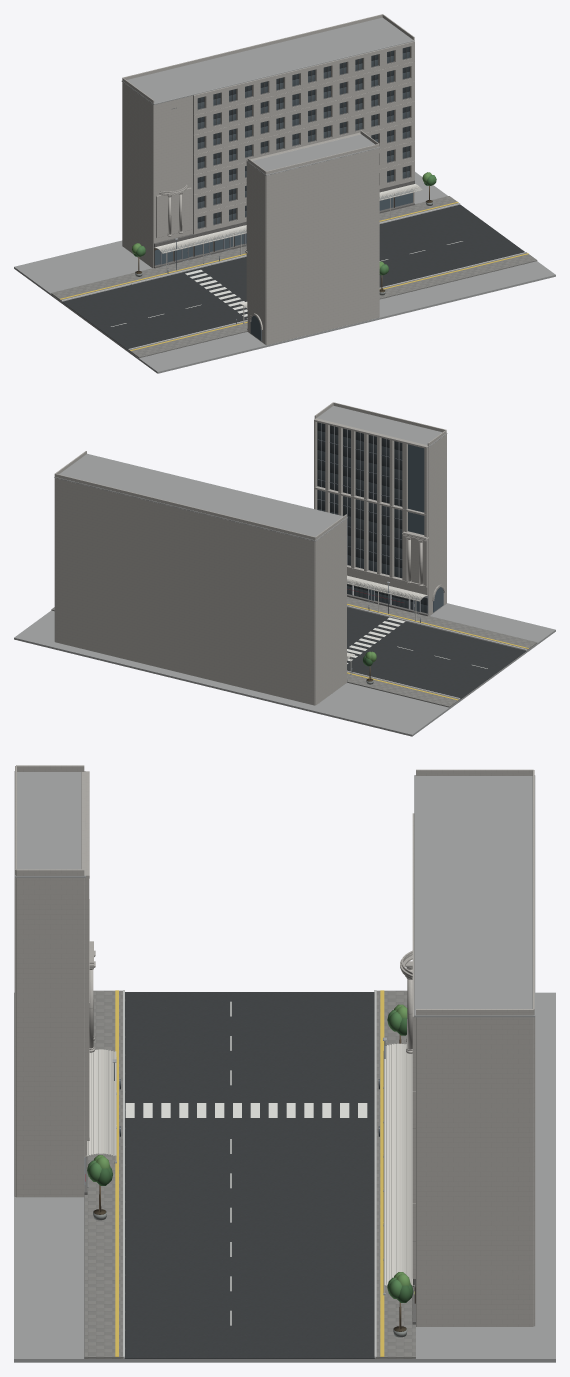
File: shijo-block.glb
3 views of the same model, one above another, from view 1: azimuth 30°, elevation 25°; view 2: azimuth 150°, elevation 25°; view 3: azimuth 270°, elevation 25° (orthographic). The views are drawn at different scales.
Visible parts, largest first — view 1: NorthUpper_pale-stone, SouthShell_pale-stone, WalkableRoad.001, Street_concrete, NorthRoof_concrete, NorthUpper_glazing, NorthShell_pale-stone, WalkableSouthSidewalk.001, WalkableNorthSidewalk.001, SouthRoof_concrete, NorthGround_glass-dark, NorthRoof_pale-stone (+10 smaller); view 2: NorthShell_pale-stone, Street_concrete, WalkableRoad.001, NorthRoof_concrete, SouthUpper_pale-stone, SouthUpper_glazing, SouthShell_pale-stone, SouthRoof_concrete, WalkableSouthSidewalk.001, SouthUpper_glass-dark, NorthRoof_pale-stone, WalkableNorthSidewalk.001 (+8 smaller); view 3: WalkableRoad.001, NorthShell_pale-stone, NorthRoof_concrete, Street_concrete, SouthShell_pale-stone, WalkableSouthSidewalk.001, NorthCanopy_canopy, SouthRoof_concrete, WalkableNorthSidewalk.001, SouthUpper_pale-stone, SouthCanopy_canopy, Street_tactile (+6 smaller).
Part boxes in pixels (<box>): NorthUpper_pale-stone: <box>154,41,414,243</box>; SouthShell_pale-stone: <box>247,148,379,344</box>; WalkableRoad.001: <box>62,204,524,350</box>; Street_concrete: <box>14,172,555,373</box>; NorthRoof_concrete: <box>121,17,414,104</box>; NorthUpper_glazing: <box>197,46,409,228</box>; NorthShell_pale-stone: <box>122,82,414,267</box>; WalkableSouthSidewalk.001: <box>128,252,537,358</box>; WalkableNorthSidewalk.001: <box>51,196,458,301</box>; SouthRoof_concrete: <box>247,134,380,175</box>; NorthGround_glass-dark: <box>154,189,412,265</box>; NorthRoof_pale-stone: <box>122,14,414,103</box>; NorthShell_pale-stone: <box>54,478,346,705</box>; Street_concrete: <box>14,583,555,736</box>; WalkableRoad.001: <box>347,607,526,699</box>; NorthRoof_concrete: <box>54,453,347,541</box>; SouthUpper_pale-stone: <box>314,418,429,587</box>; SouthUpper_glazing: <box>317,422,402,578</box>; SouthShell_pale-stone: <box>428,434,446,615</box>; SouthRoof_concrete: <box>314,405,447,447</box>; WalkableSouthSidewalk.001: <box>347,596,537,650</box>; SouthUpper_glass-dark: <box>408,444,424,534</box>; NorthRoof_pale-stone: <box>54,451,346,540</box>; WalkableNorthSidewalk.001: <box>51,607,459,707</box>; WalkableRoad.001: <box>124,992,375,1358</box>; NorthShell_pale-stone: <box>416,1017,535,1326</box>; NorthRoof_concrete: <box>414,775,535,1017</box>; Street_concrete: <box>14,992,555,1362</box>; SouthShell_pale-stone: <box>14,878,84,1197</box>; WalkableSouthSidewalk.001: <box>84,990,123,1358</box>; NorthCanopy_canopy: <box>384,1043,414,1286</box>; SouthRoof_concrete: <box>14,771,85,877</box>; WalkableNorthSidewalk.001: <box>375,990,415,1358</box>; SouthUpper_pale-stone: <box>81,771,95,1140</box>; SouthCanopy_canopy: <box>85,1049,116,1156</box>; Street_tactile: <box>115,990,384,1356</box>.
Bounding box in the file's own units: 64 × 26.92 × 40.
Materials: 26 (6 with a texture image).
